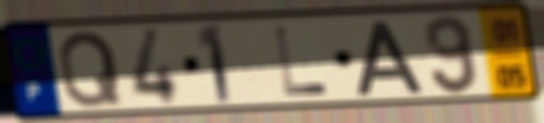1: (194, 22, 235, 107)
4: (129, 25, 180, 108)
9: (422, 12, 482, 97)
A: (354, 19, 427, 98)
L: (271, 24, 332, 99)
Q: (56, 28, 126, 111)
